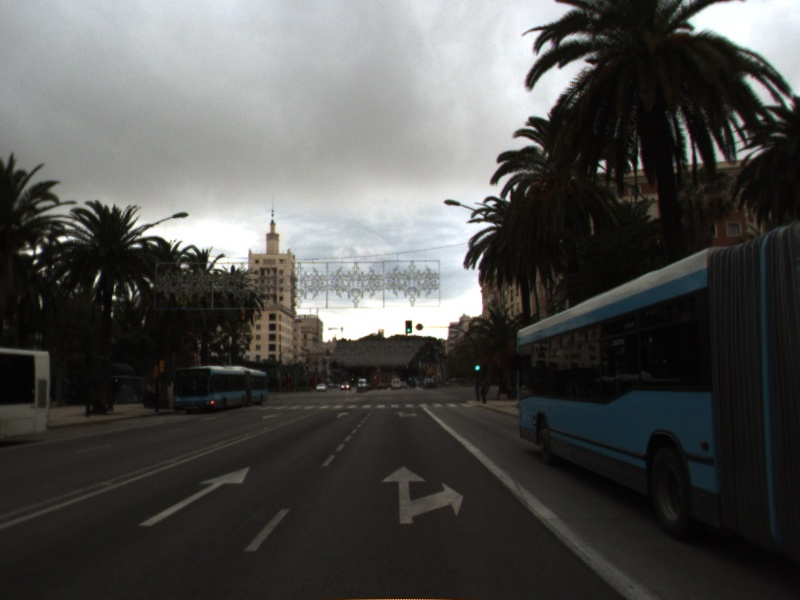STRAIGHT: (135, 464, 253, 529), (334, 410, 351, 420)
STRAIGHT_RIGHT: (378, 462, 466, 526), (392, 409, 420, 419)
